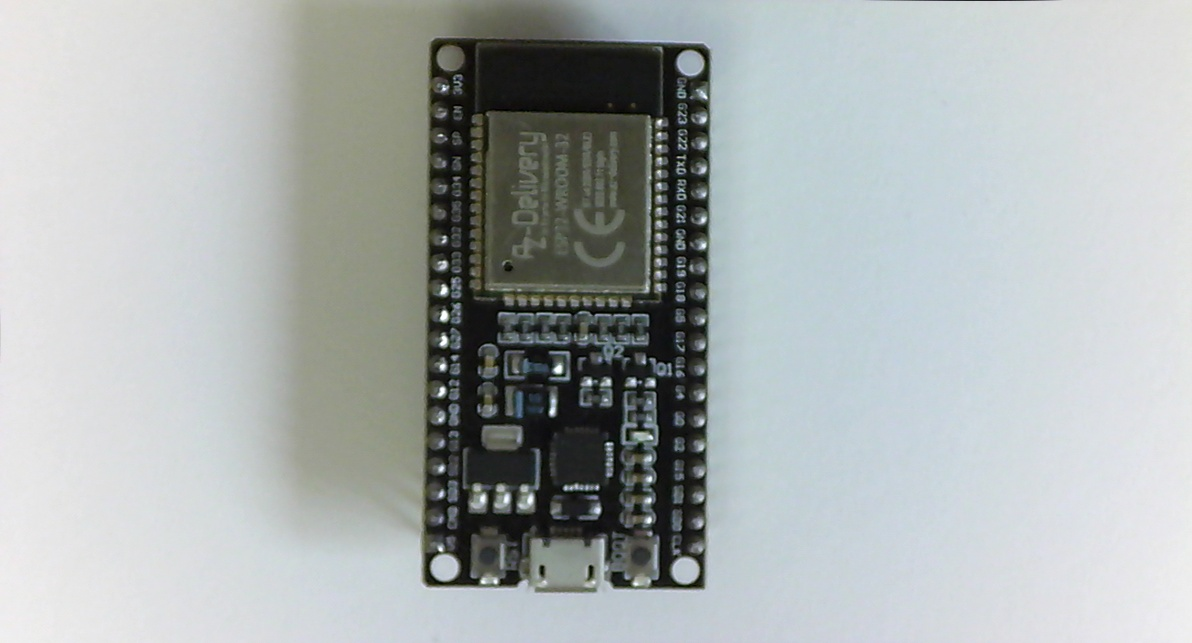esp32: (420, 33, 709, 593)
